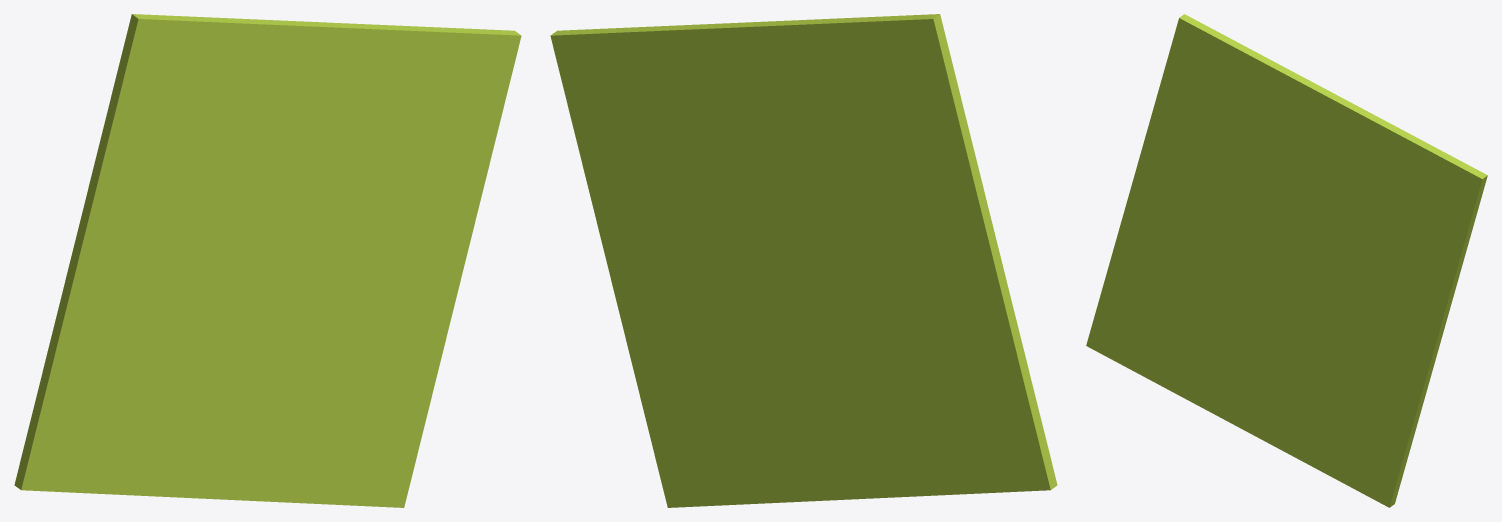
The picture shows the model from 3 angles, left to right: view 1: azimuth 30°, elevation 25°; view 2: azimuth 150°, elevation 25°; view 3: azimuth 330°, elevation 25°; orthographic projection. The views are drawn at different scales.
Parts seen in each view (by area): view 1: osm-way27917482-F2; view 2: osm-way27917482-F2; view 3: osm-way27917482-F2.
Boxes of the visible parts, bbox=[...] form: osm-way27917482-F2: bbox=[14, 14, 521, 507]; osm-way27917482-F2: bbox=[550, 14, 1057, 507]; osm-way27917482-F2: bbox=[1086, 14, 1487, 507].
Size of the model in its own units: 6.39 by 6.76 by 0.15.
